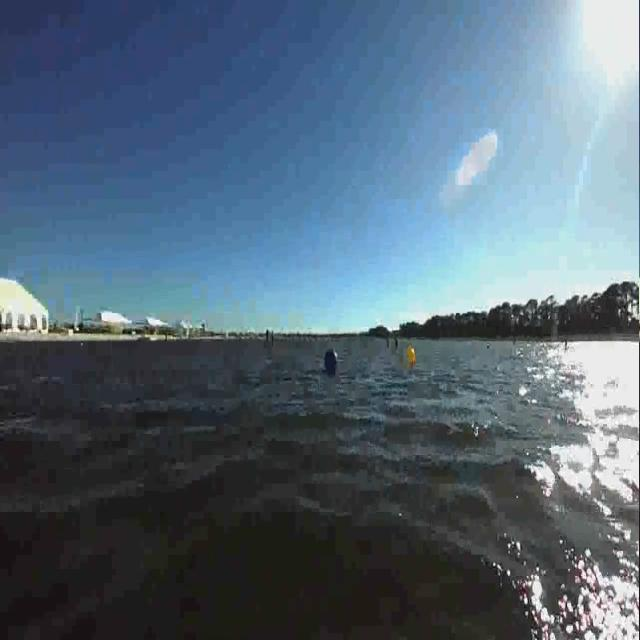blue-buoy: (325, 348, 340, 374)
yellow-buoy: (409, 346, 417, 361)
